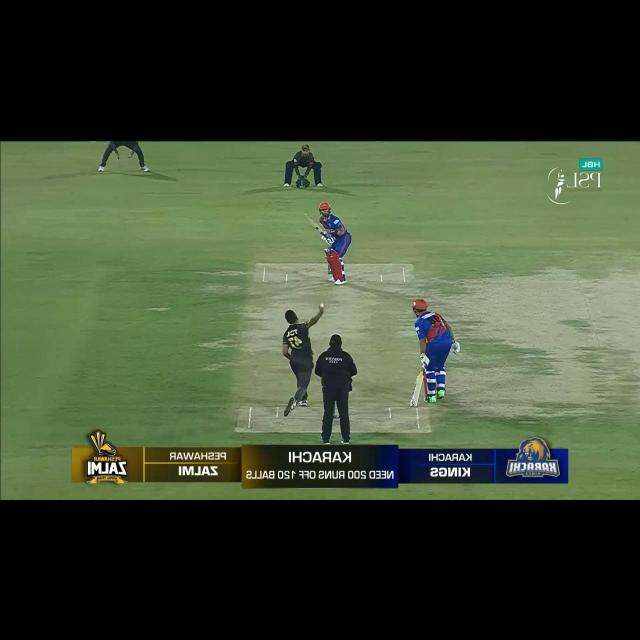bat: (411, 374, 425, 408), (304, 214, 325, 235)
toe: (410, 398, 418, 408), (303, 214, 311, 221)
